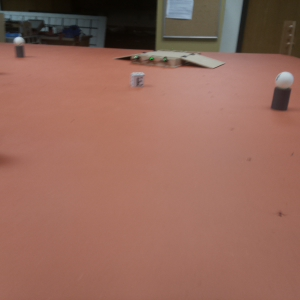obstacle: (270, 71, 293, 112), (13, 37, 29, 60)
side: (130, 54, 182, 68)
slope: (185, 53, 225, 70), (113, 55, 132, 62)
